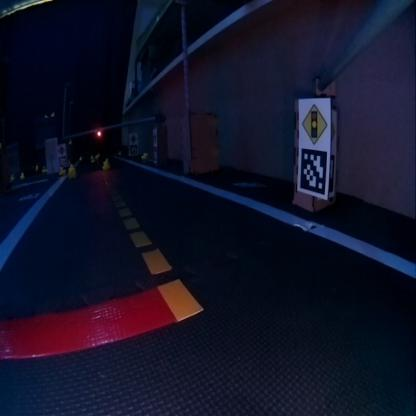Duckie: (68, 168, 76, 177), (102, 160, 108, 170), (58, 167, 64, 174)
QR code: (298, 148, 326, 194), (233, 179, 264, 189), (19, 192, 38, 200), (58, 155, 66, 165), (129, 144, 136, 152)
Signal sign: (300, 103, 327, 140)
Traffic light: (96, 129, 100, 136)
